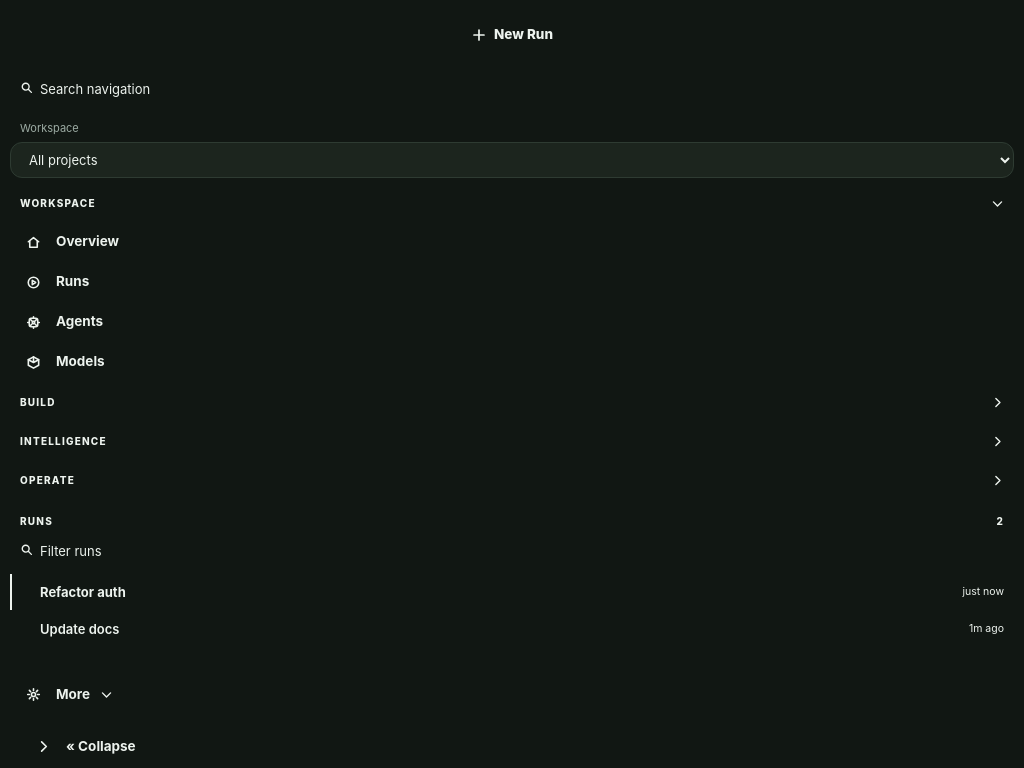
Test case: session4: navigation information architecture › collapses Build/Intelligence/Operate by default (progressive disclosure)
This screenshot has width=1024, height=768.
Expected: the button "Tools" is not shown
Click the button "Build": (38, 402) [10,383,1014,421]
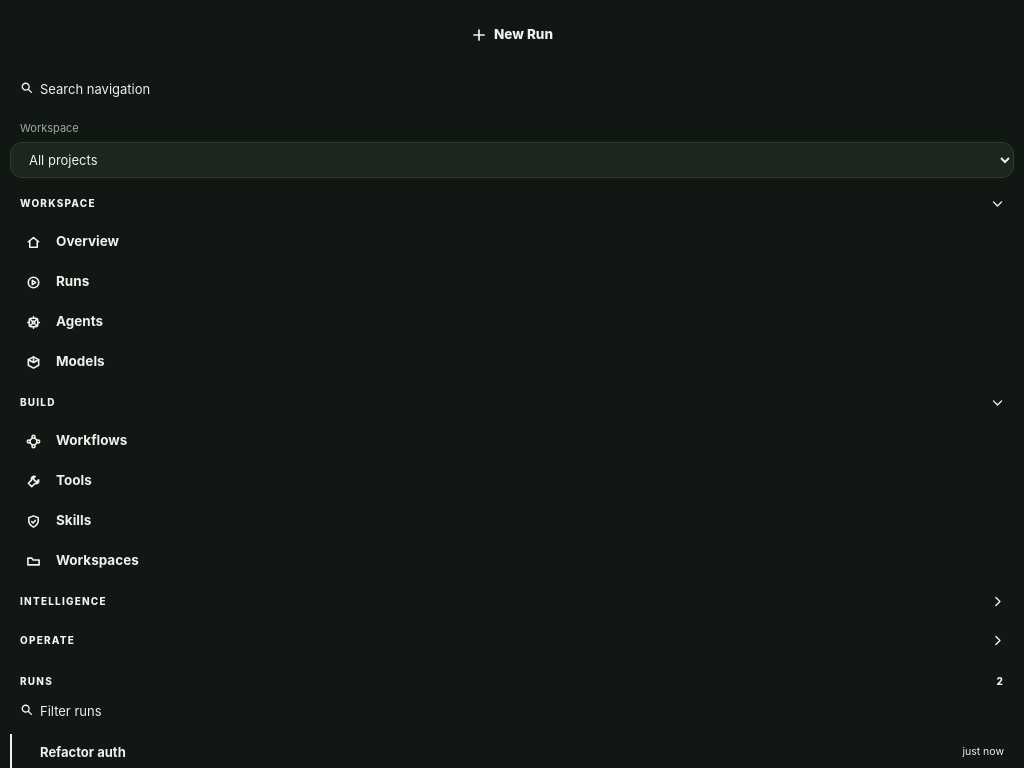
Now the button "Build" is expanded, box [10,383,1014,421]
Now the button "Tools" is shown, box [10,461,1014,501]
Now the button "Workflows" is shown, box [10,421,1014,461]
